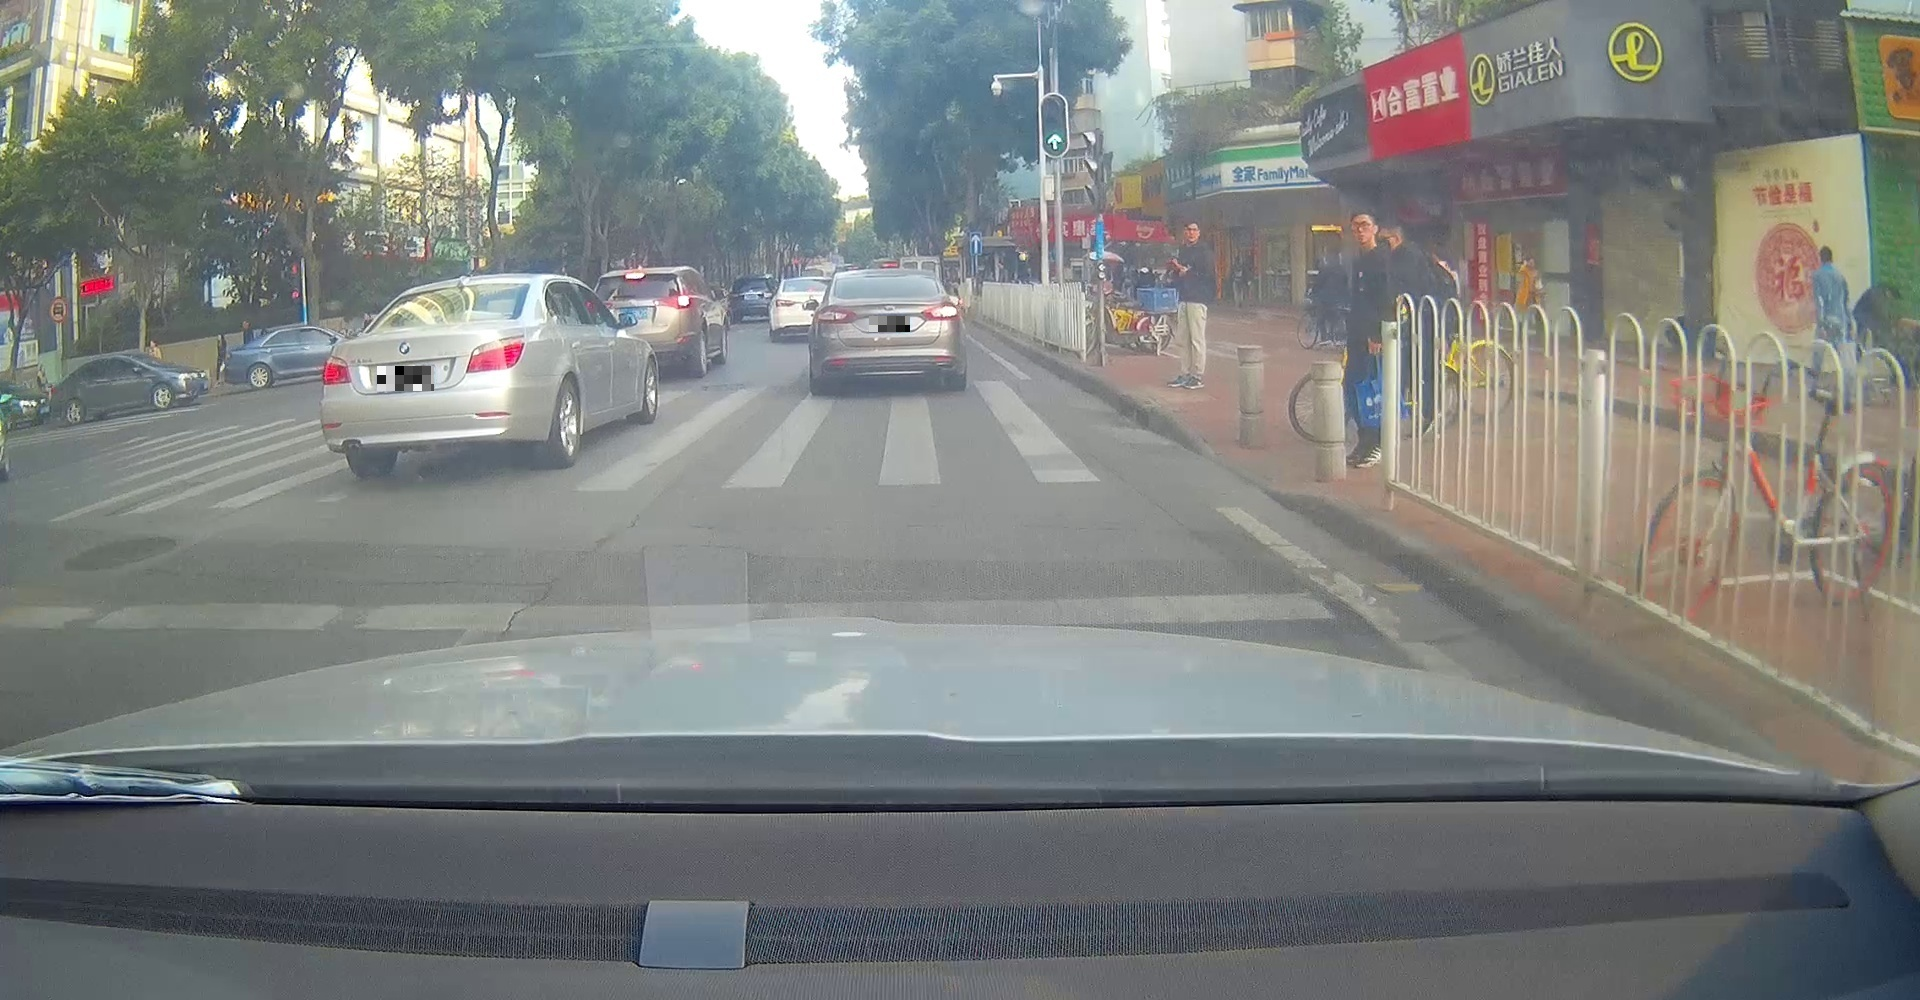L_light: (814, 305, 857, 324), (323, 357, 352, 385)
R_light: (466, 332, 524, 373), (921, 302, 959, 320)
T_light: (448, 280, 474, 291), (877, 272, 895, 278)
day-no: (321, 275, 533, 478)
day-right: (813, 268, 963, 393)
plate_1: (377, 365, 434, 391)
plate_2: (869, 316, 910, 332)
